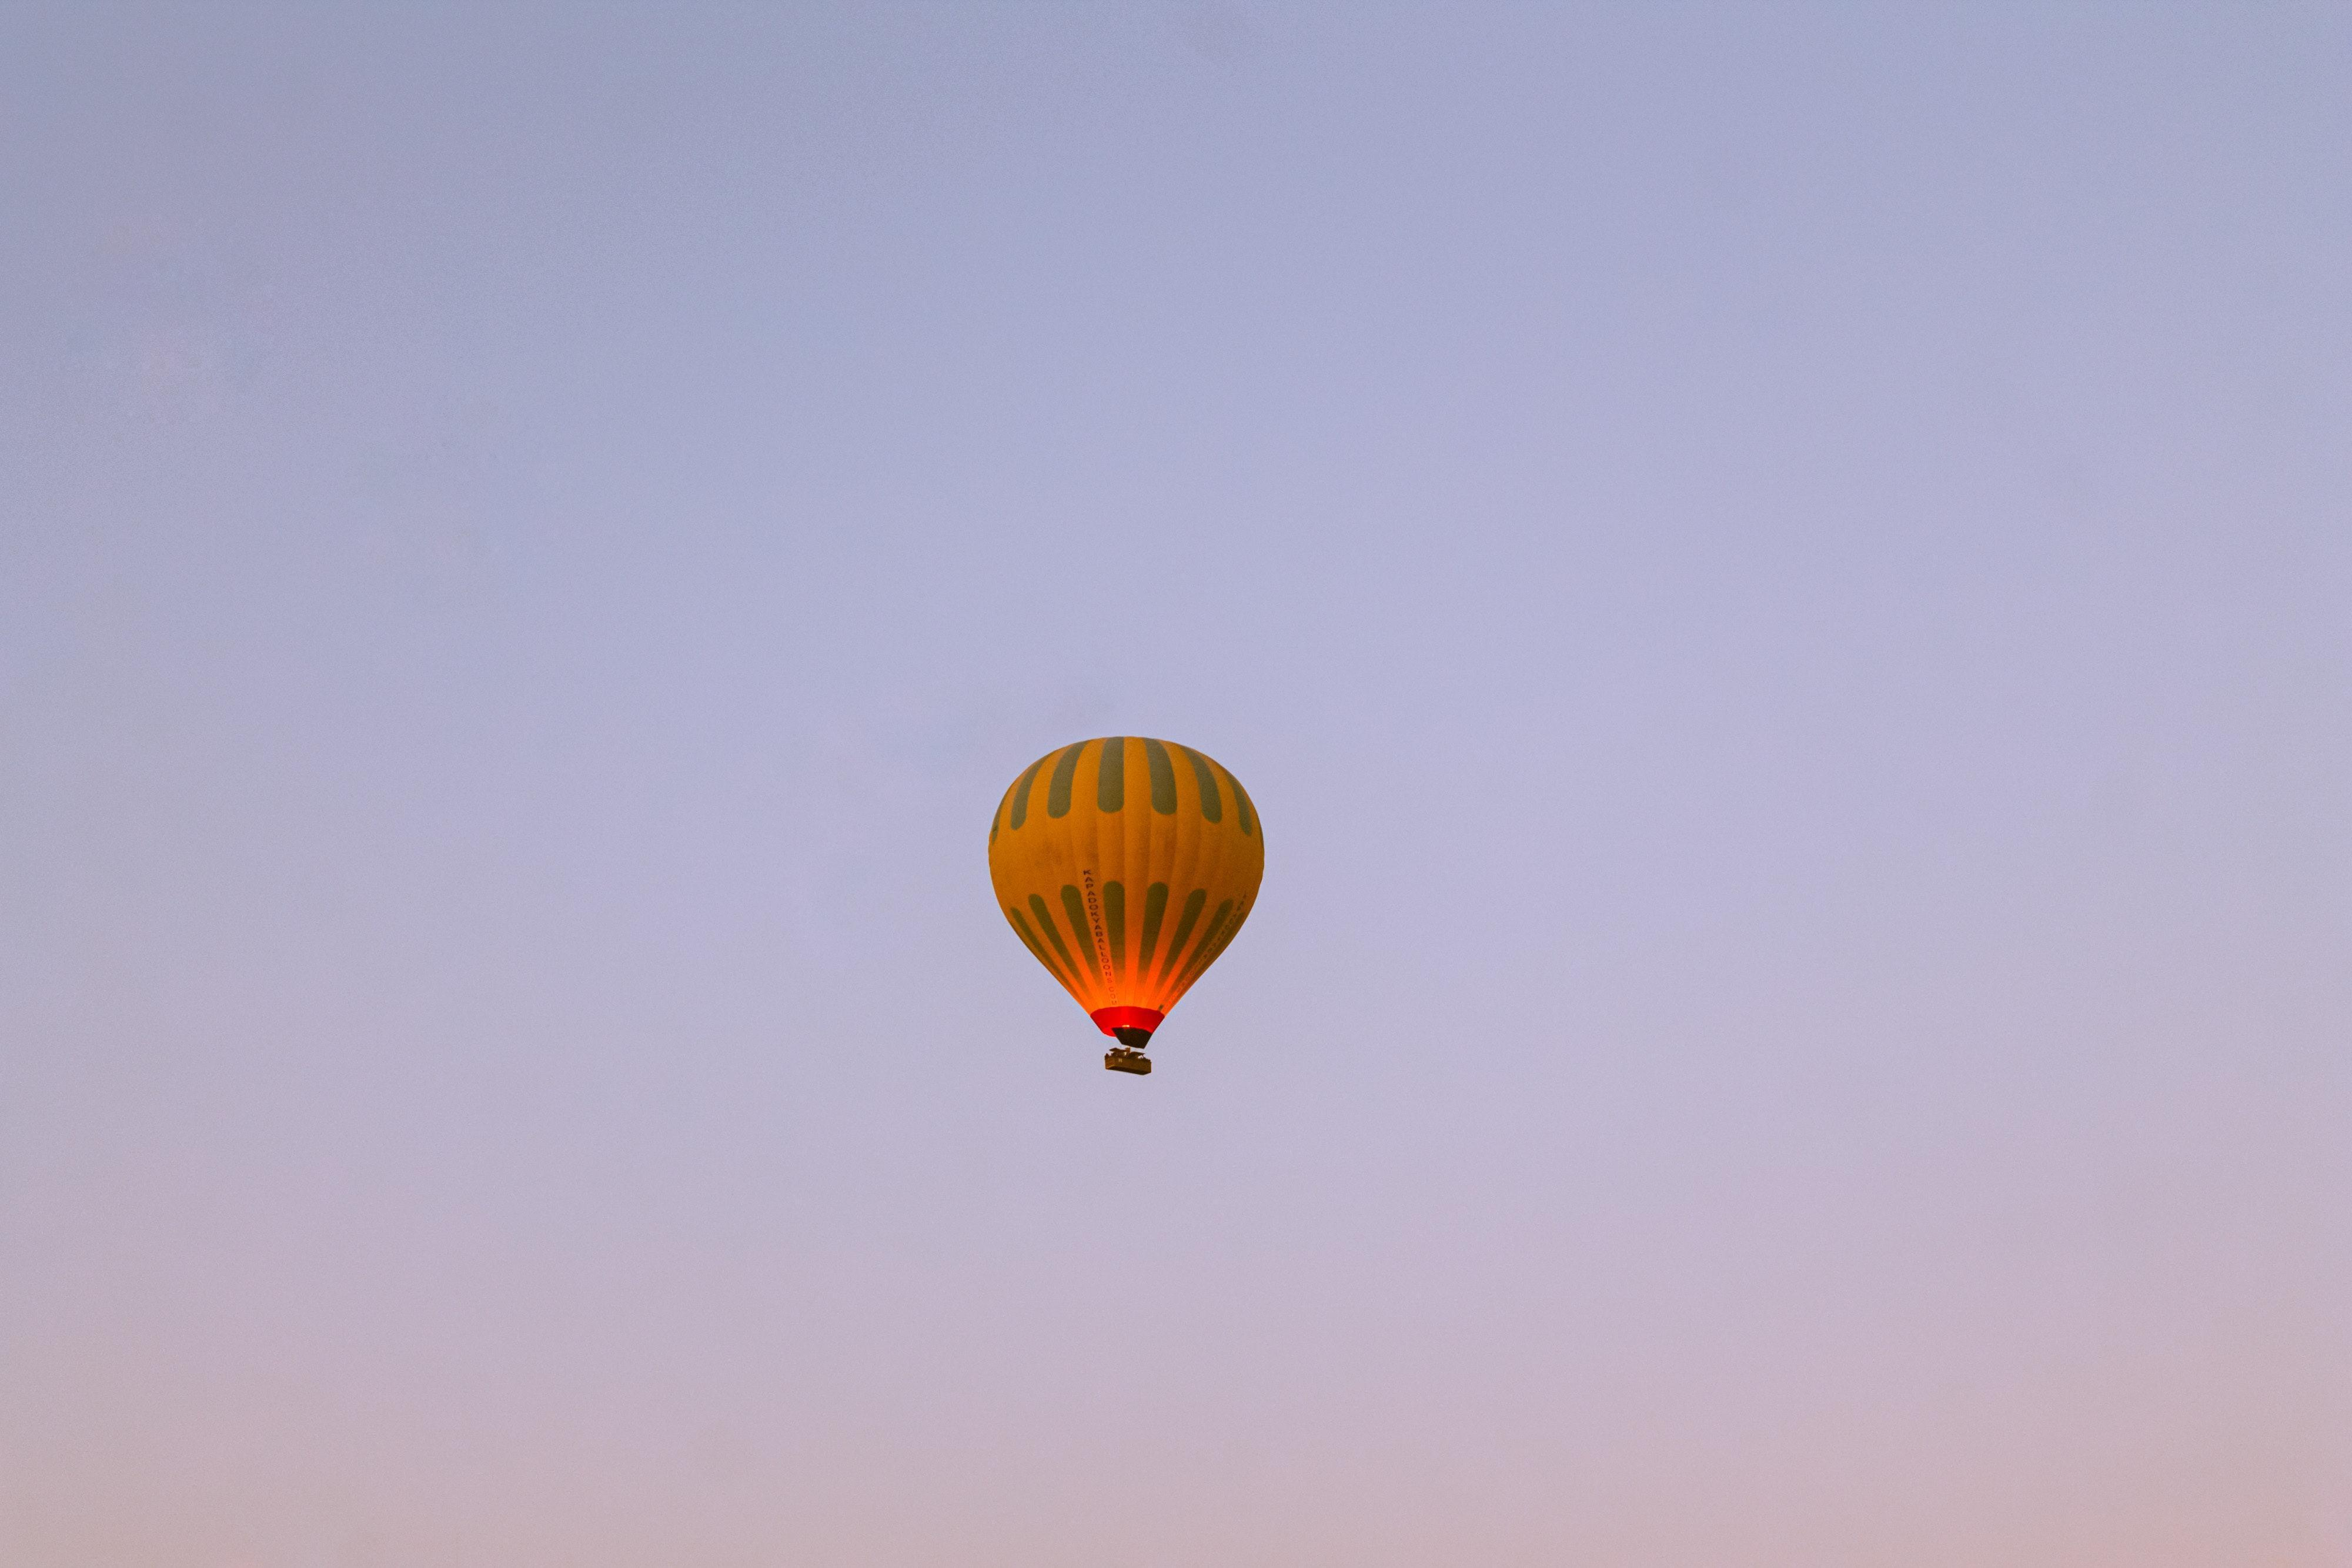hot air ballon: (987, 733, 1267, 1074)
